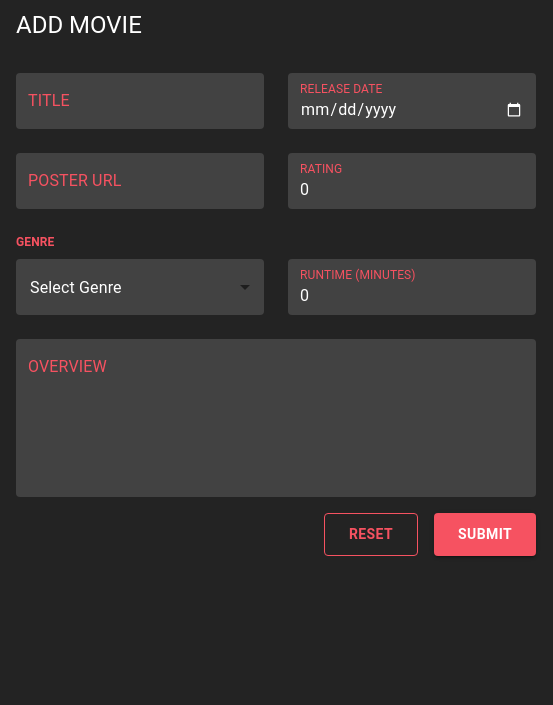
Test case: MovieForm › Form Validation › shows release date error when date is empty
The image size is (553, 705).
Type "Test Movie" into the field with placeholder "TITLE" at point(140, 101), box [16,73,264,129]
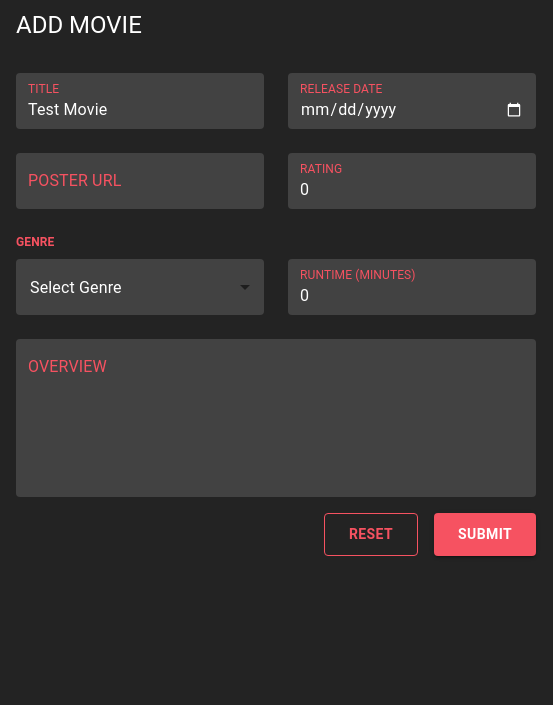
Click the button "SUBMIT" at point(485, 534), box [434,513,536,556]
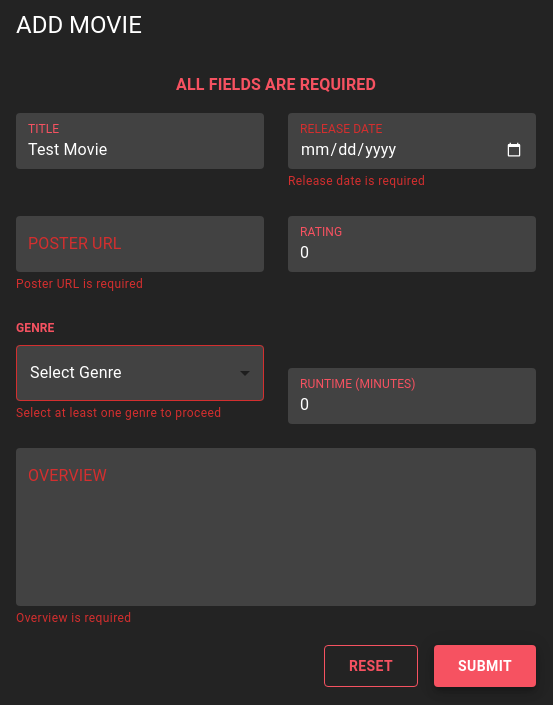
Expected: the text "Release date is required" is shown, [288,174,425,188]
